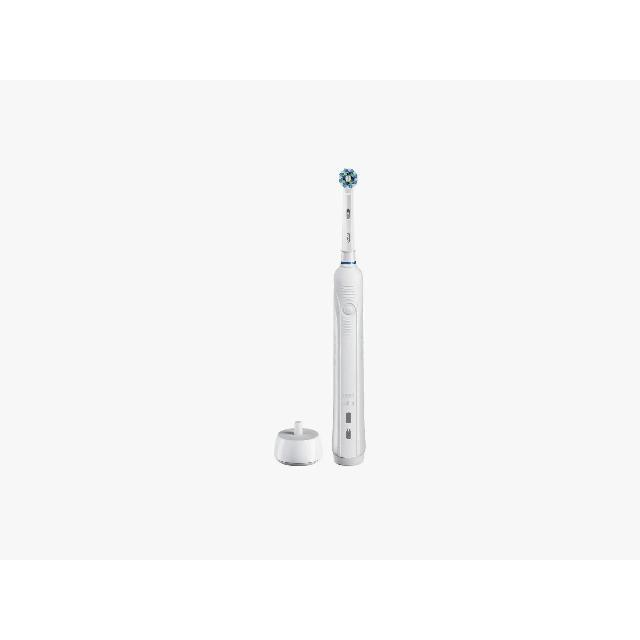toothbrush: (316, 160, 382, 334)
